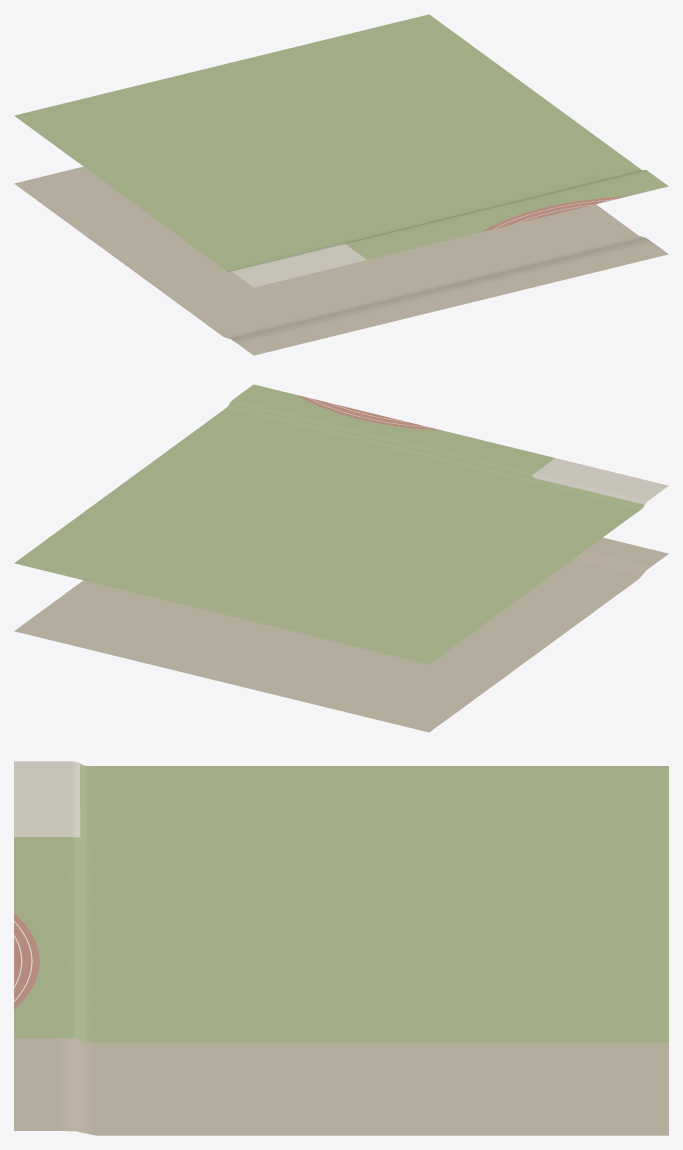
3 views of the same model, one above another, from view 1: azimuth 30°, elevation 25°; view 2: azimuth 150°, elevation 25°; view 3: azimuth 270°, elevation 25° (orthographic). The views are drawn at different scales.
Visible parts, largest first — view 1: s_1_-6__grass, s_1_-6__soil, s_1_-6__paving, s_1_-6__red_court; view 2: s_1_-6__grass, s_1_-6__soil, s_1_-6__paving, s_1_-6__red_court; view 3: s_1_-6__grass, s_1_-6__soil, s_1_-6__paving, s_1_-6__red_court.
Boxes of the visible parts, left/top/right/bottom form: s_1_-6__grass: left=14, top=14, right=668, bottom=271; s_1_-6__soil: left=14, top=166, right=668, bottom=355; s_1_-6__paving: left=231, top=243, right=366, bottom=287; s_1_-6__red_court: left=481, top=196, right=625, bottom=232; s_1_-6__grass: left=14, top=384, right=644, bottom=664; s_1_-6__soil: left=14, top=537, right=668, bottom=732; s_1_-6__paving: left=532, top=458, right=668, bottom=504; s_1_-6__red_court: left=297, top=395, right=440, bottom=430; s_1_-6__grass: left=14, top=763, right=668, bottom=1042; s_1_-6__soil: left=14, top=1038, right=668, bottom=1135; s_1_-6__paving: left=14, top=761, right=80, bottom=837; s_1_-6__red_court: left=14, top=913, right=39, bottom=1009.
Bounding box in the file's own units: 128 × 21.01 × 128.
